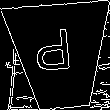P_S: (38, 29, 81, 83)
